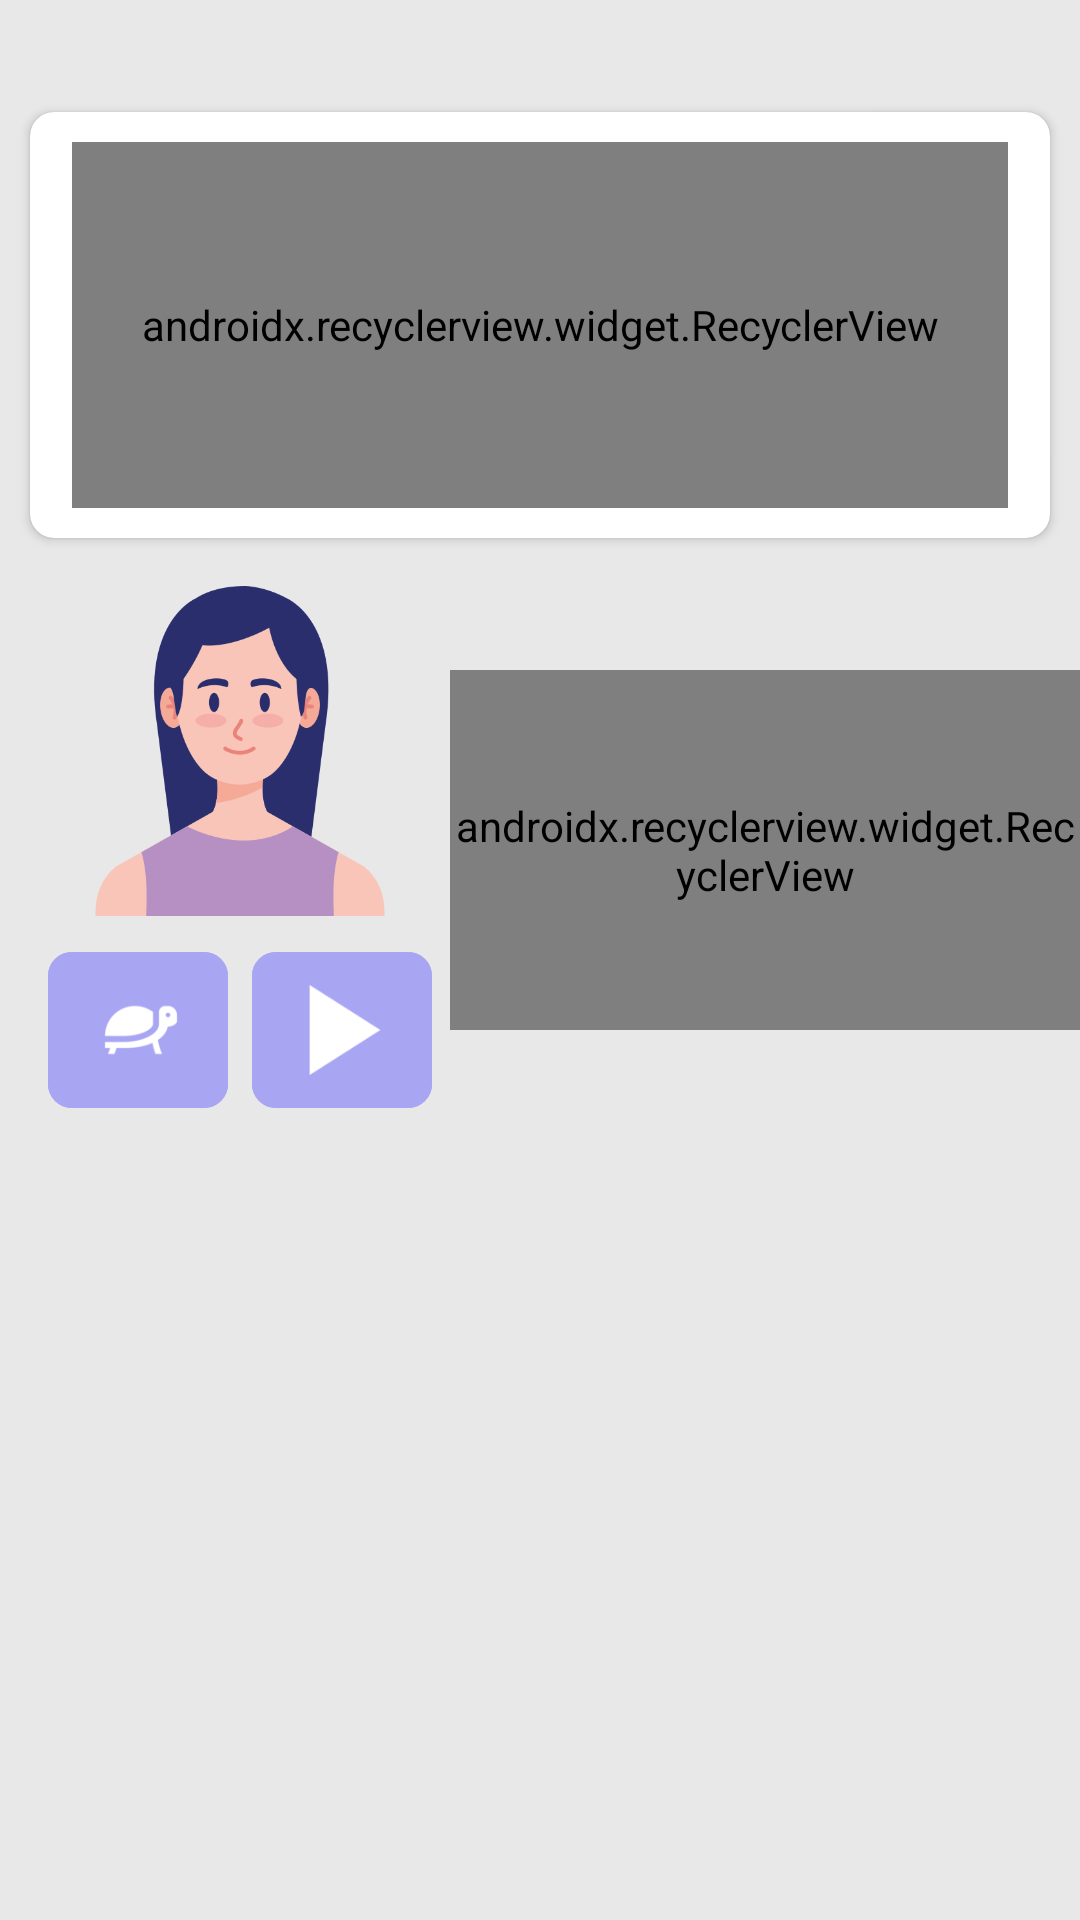

Where icons sit on this 1080 × 1920 app screen, as (x1, y1, x2, y2):
happy woman: (96, 586, 384, 916)
play sound: (252, 952, 432, 1108)
slow play: (48, 952, 228, 1108)
